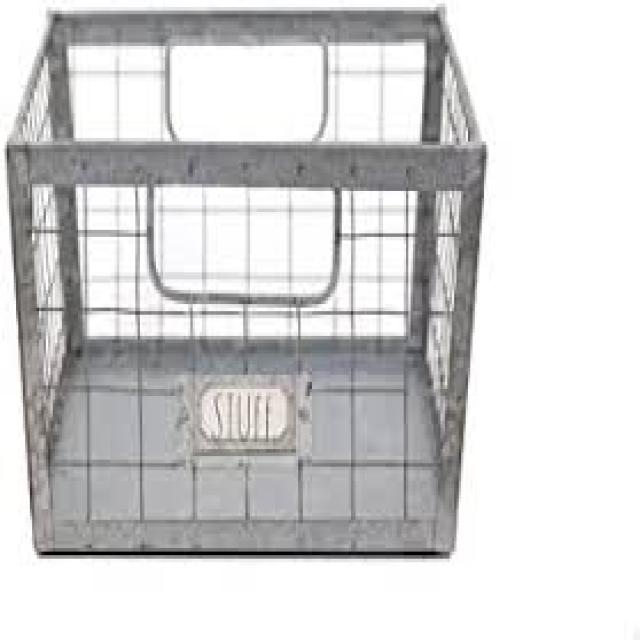basket: (6, 10, 488, 555)
